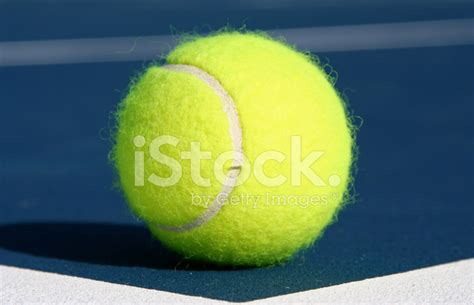tennis_ball: (113, 30, 355, 266)
